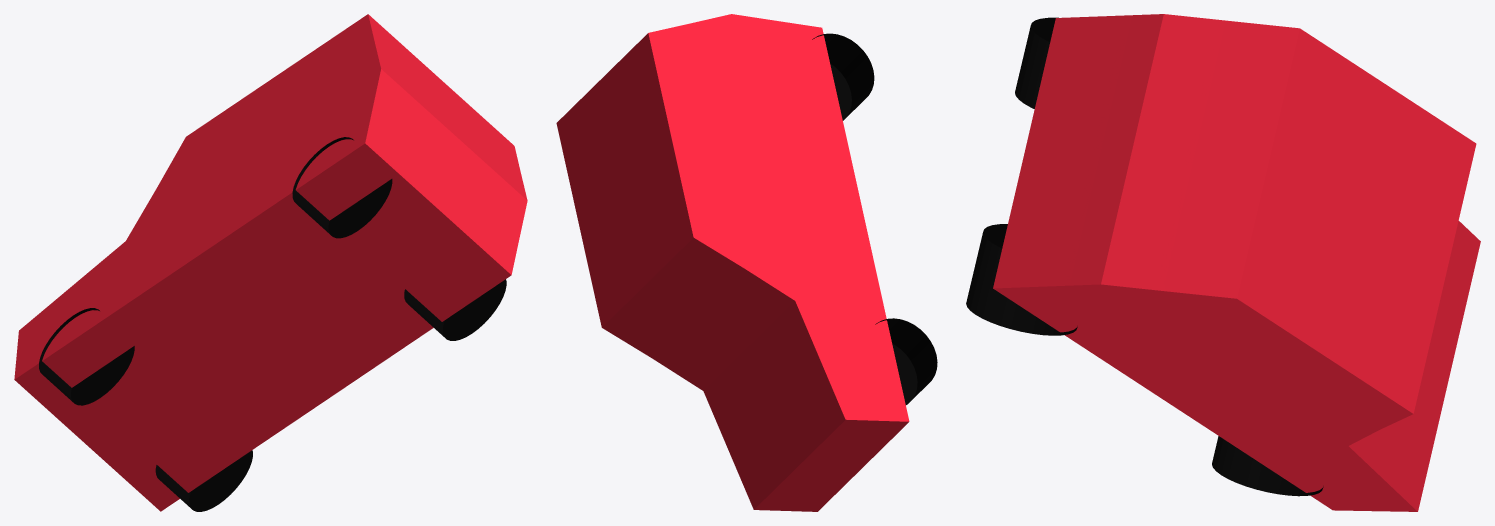
Rendered from Car.fbx.
3 views of the same model, side by side, from view 1: azimuth 30°, elevation 25°; view 2: azimuth 150°, elevation 25°; view 3: azimuth 270°, elevation 25° (orthographic). The views are drawn at different scales.
Parts seen in each view (by area): view 1: Car; view 2: Car; view 3: Car.
Boxes of the visible parts, bbox=[...] form: Car: bbox=[14, 14, 527, 511]; Car: bbox=[556, 14, 937, 511]; Car: bbox=[966, 14, 1480, 511].
Size of the model in its own units: 475 by 473 by 363.
